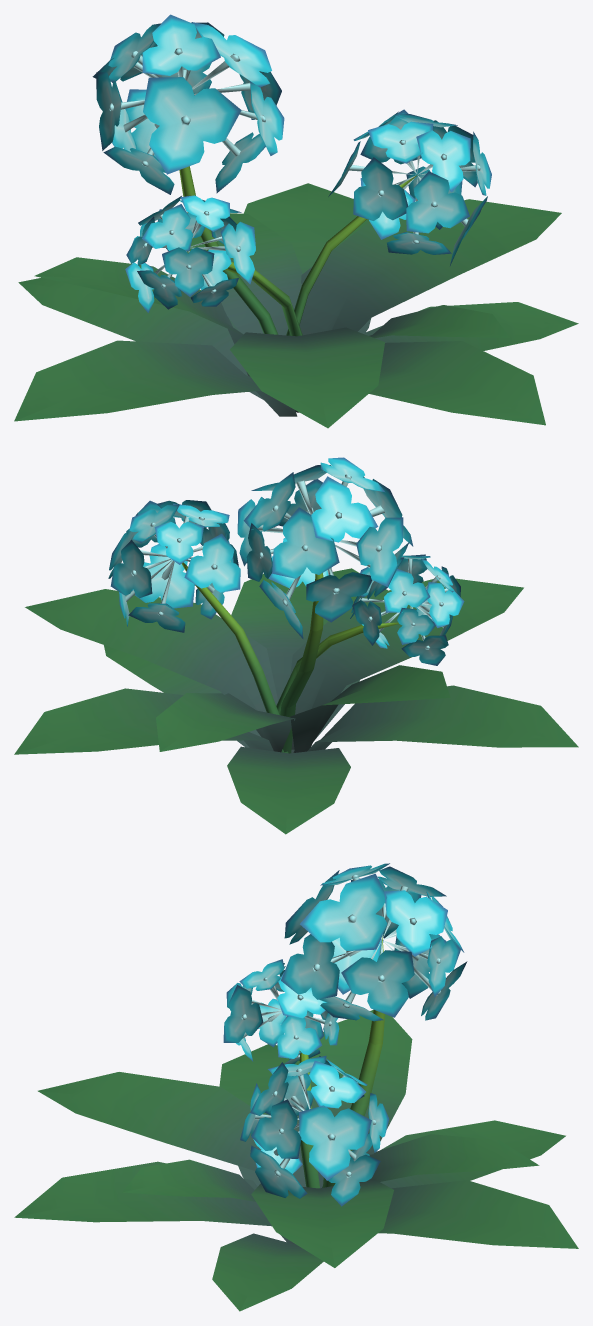
Rendered from flower_028_base_material_0.fbx.
3 views of the same model, one above another, from view 1: azimuth 30°, elevation 25°; view 2: azimuth 150°, elevation 25°; view 3: azimuth 270°, elevation 25° (orthographic). The views are drawn at different scales.
Visible parts, largest first — view 1: flower_028_base_material_0; view 2: flower_028_base_material_0; view 3: flower_028_base_material_0.
Part boxes in pixels (bbox=[...]): flower_028_base_material_0: bbox=[14, 14, 578, 428]; flower_028_base_material_0: bbox=[14, 457, 578, 834]; flower_028_base_material_0: bbox=[14, 863, 578, 1311].
Bounding box in the file's own units: 4.87 × 4.44 × 3.05.
Materials: 1 (1 with a texture image).
